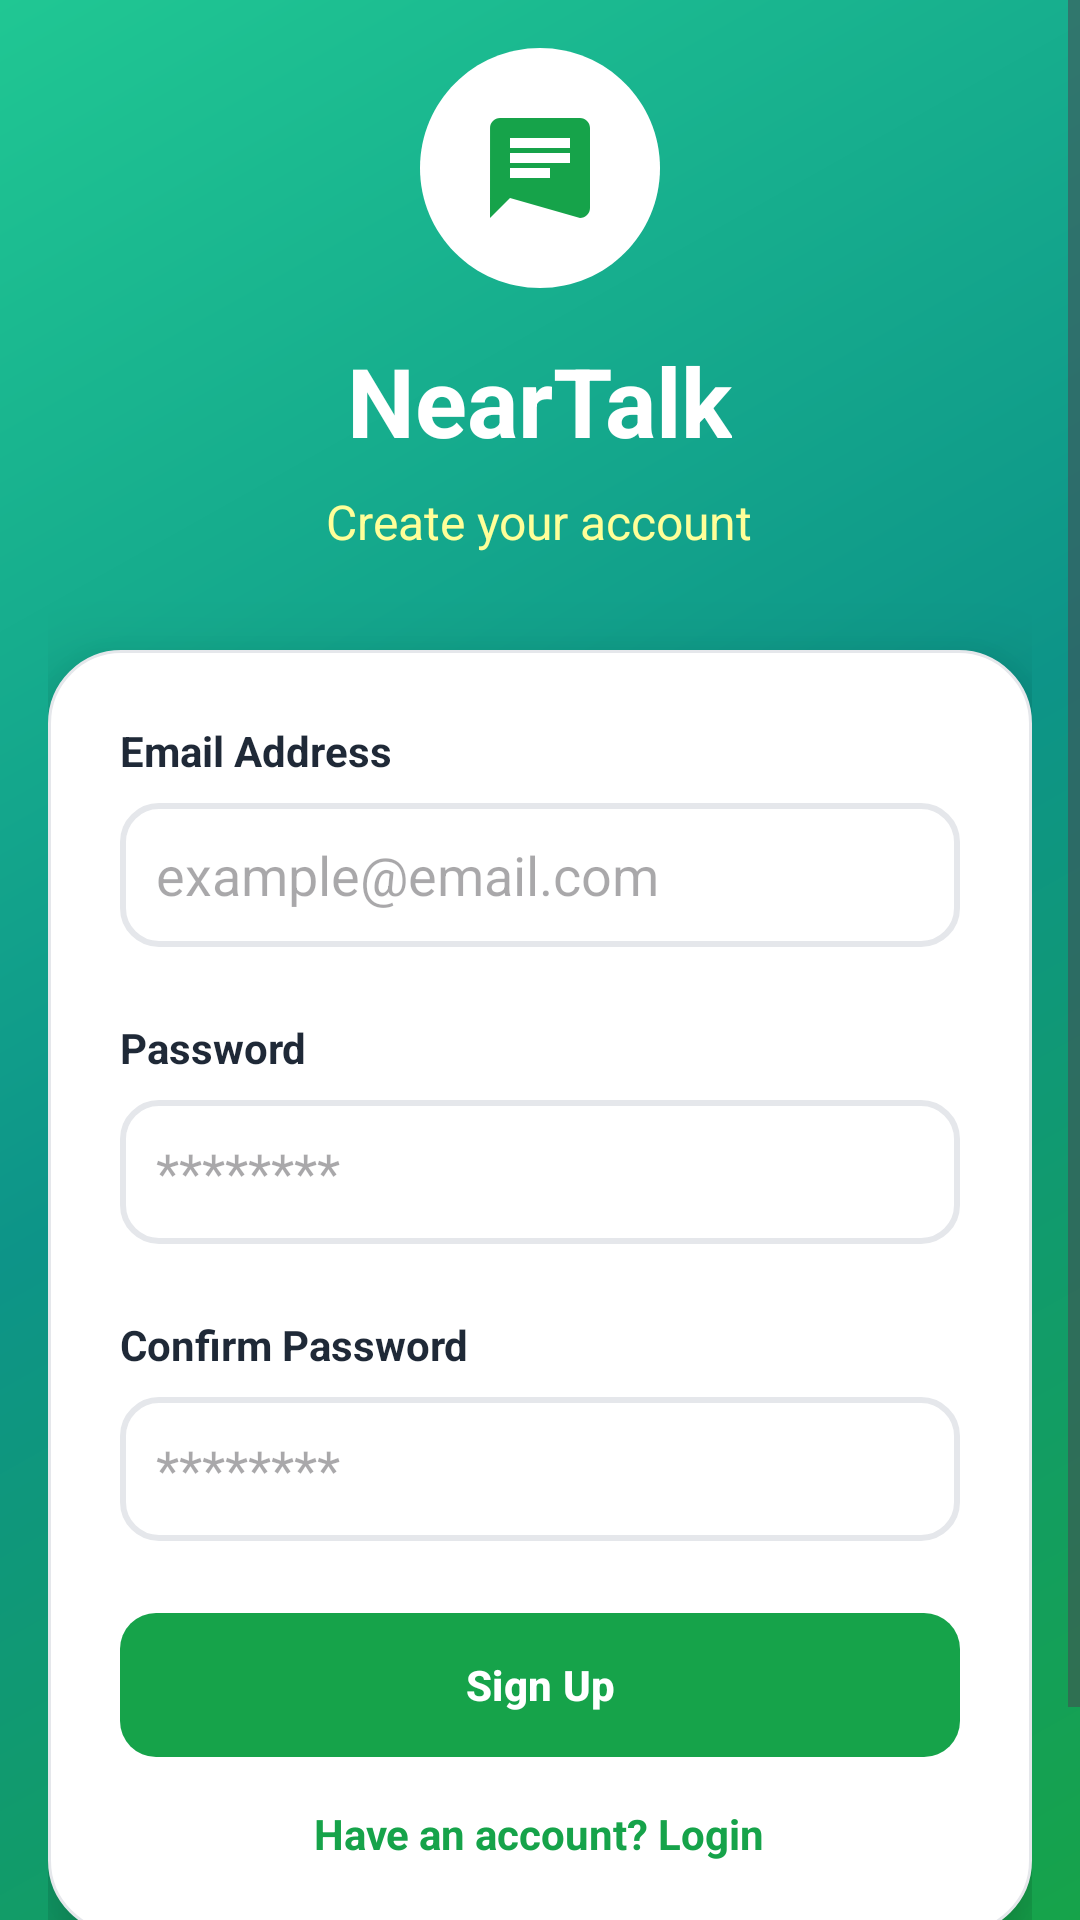

Named icons in this screenshot (1080*1920) and their centers, point (x, y):
message: point (540, 168)
